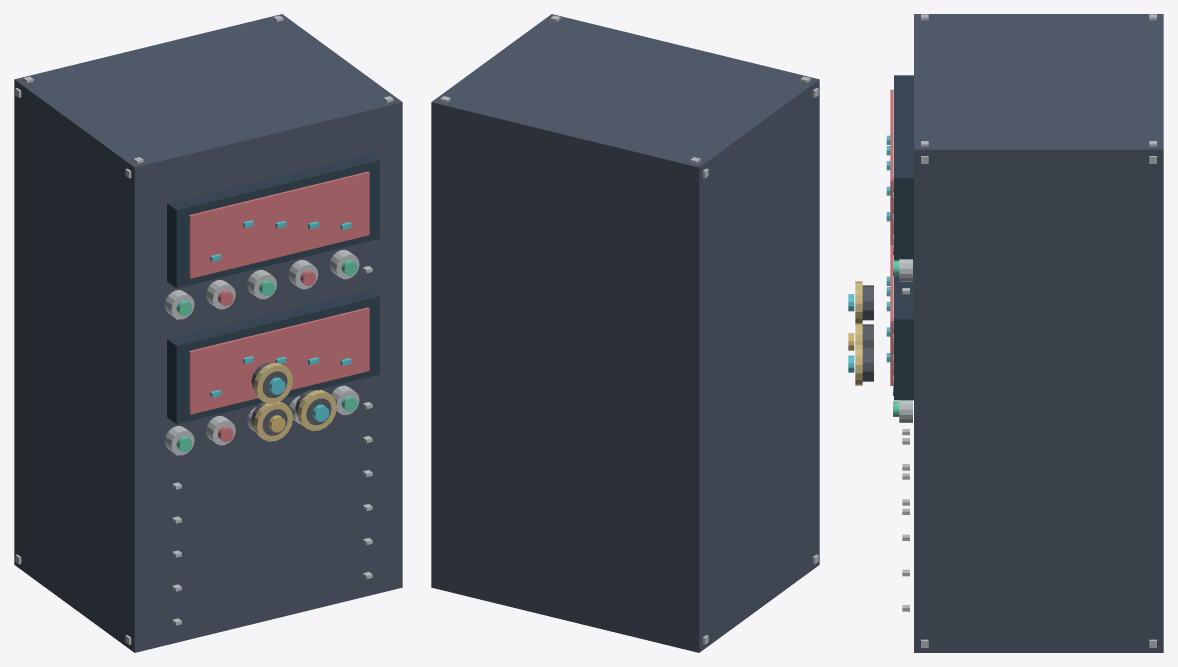
File: 65_L82_RFDesenseFaultEmulator.glb
3 renders of one model, left to right at view 1: azimuth 30°, elevation 25°; view 2: azimuth 150°, elevation 25°; view 3: azimuth 270°, elevation 25°, orthographic. The views are drawn at different scales.
Visible parts, largest first — view 1: RFDesenseFaultEmulator_Node_0000, RFDesenseFaultEmulator_Node_0010, RFDesenseFaultEmulator_Node_0027, RFDesenseFaultEmulator_Node_0009, RFDesenseFaultEmulator_Node_0026, RFDesenseFaultEmulator_Node_0073, RFDesenseFaultEmulator_Node_0076, RFDesenseFaultEmulator_Node_0070; view 2: RFDesenseFaultEmulator_Node_0000; view 3: RFDesenseFaultEmulator_Node_0000, RFDesenseFaultEmulator_Node_0009, RFDesenseFaultEmulator_Node_0026, RFDesenseFaultEmulator_Node_0010, RFDesenseFaultEmulator_Node_0027.
Boxes of the visible parts, x1,y1,x2,y2 form: RFDesenseFaultEmulator_Node_0000: (14, 14, 402, 652); RFDesenseFaultEmulator_Node_0010: (189, 171, 369, 278); RFDesenseFaultEmulator_Node_0027: (189, 307, 369, 414); RFDesenseFaultEmulator_Node_0009: (167, 153, 379, 288); RFDesenseFaultEmulator_Node_0026: (167, 289, 379, 424); RFDesenseFaultEmulator_Node_0073: (297, 390, 336, 430); RFDesenseFaultEmulator_Node_0076: (253, 363, 292, 403); RFDesenseFaultEmulator_Node_0070: (253, 401, 292, 441); RFDesenseFaultEmulator_Node_0000: (431, 14, 819, 652); RFDesenseFaultEmulator_Node_0000: (914, 14, 1163, 652); RFDesenseFaultEmulator_Node_0009: (894, 75, 913, 259); RFDesenseFaultEmulator_Node_0026: (894, 259, 913, 400); RFDesenseFaultEmulator_Node_0010: (890, 89, 893, 244); RFDesenseFaultEmulator_Node_0027: (890, 245, 893, 385).
Size of the model in its own units: 1.06 by 1.82 by 1.02.
